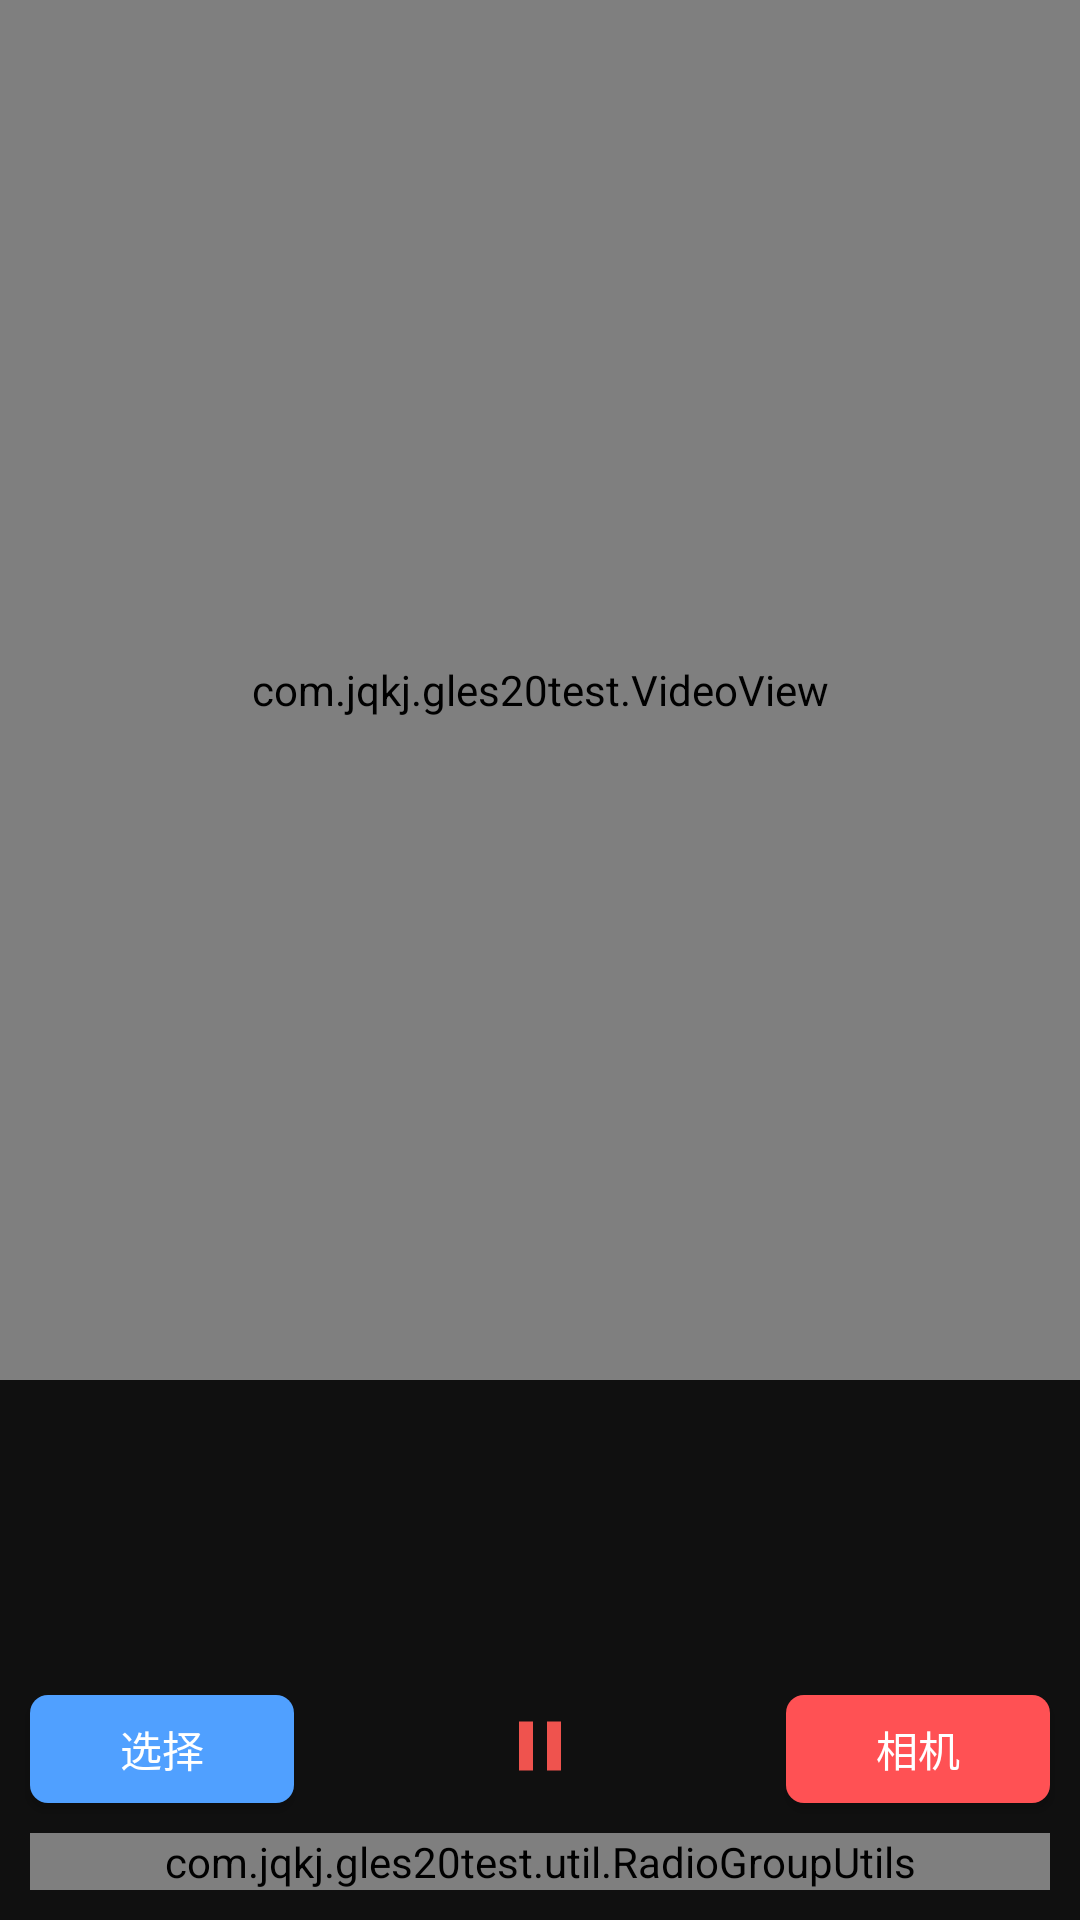

Icon click points for this 1080px x 1920px phone screenshot, format point (x, y):
pausebtn: point (540, 1746)
